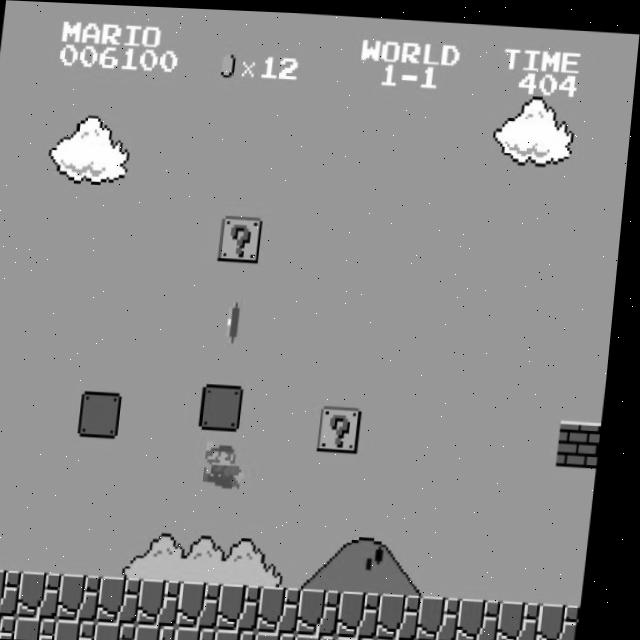1- brick_block: (564, 413, 609, 462)
11- little_mario: (208, 436, 256, 487)
13- mystery_block: (324, 401, 370, 450), (222, 213, 267, 260)
17- undestructible_block: (187, 578, 233, 627), (227, 580, 273, 629), (267, 582, 313, 631), (307, 584, 353, 633), (347, 586, 393, 635), (27, 570, 73, 618), (67, 572, 113, 620), (107, 574, 153, 622), (147, 576, 193, 624), (387, 589, 433, 637), (427, 591, 473, 639), (467, 593, 512, 640), (507, 595, 552, 640), (546, 596, 592, 640), (0, 568, 33, 616), (26, 615, 69, 640), (66, 617, 109, 640), (106, 619, 148, 640), (146, 621, 188, 640), (0, 613, 29, 639), (186, 624, 228, 640), (226, 626, 268, 640), (266, 628, 308, 640), (306, 629, 348, 640), (346, 632, 388, 640), (386, 634, 428, 640), (426, 636, 468, 640), (466, 638, 508, 640)
3- empty_block: (85, 389, 130, 438)
